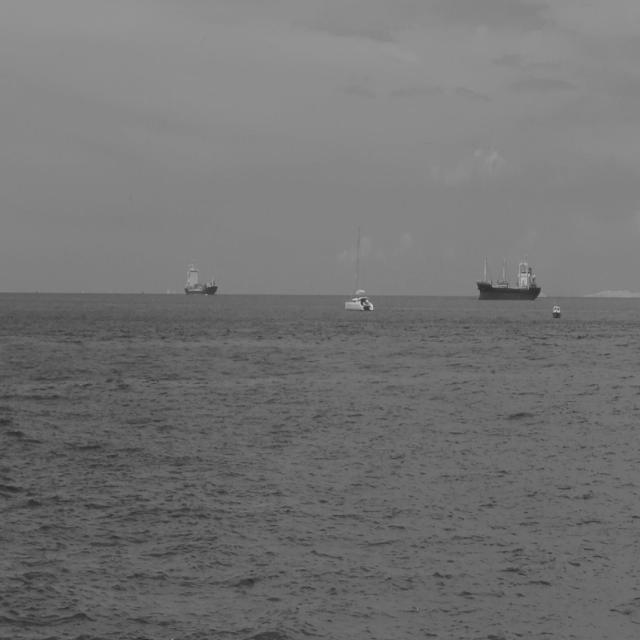boat: (344, 224, 375, 313)
ship: (475, 251, 542, 302), (183, 258, 218, 297), (551, 297, 562, 319)
